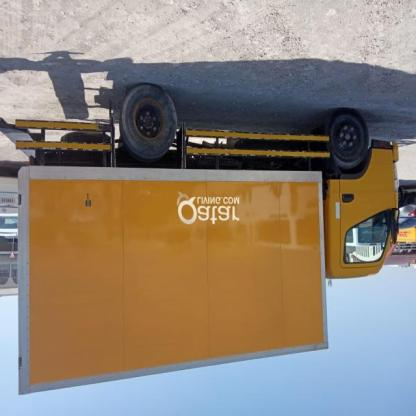truck: (18, 83, 401, 398)
